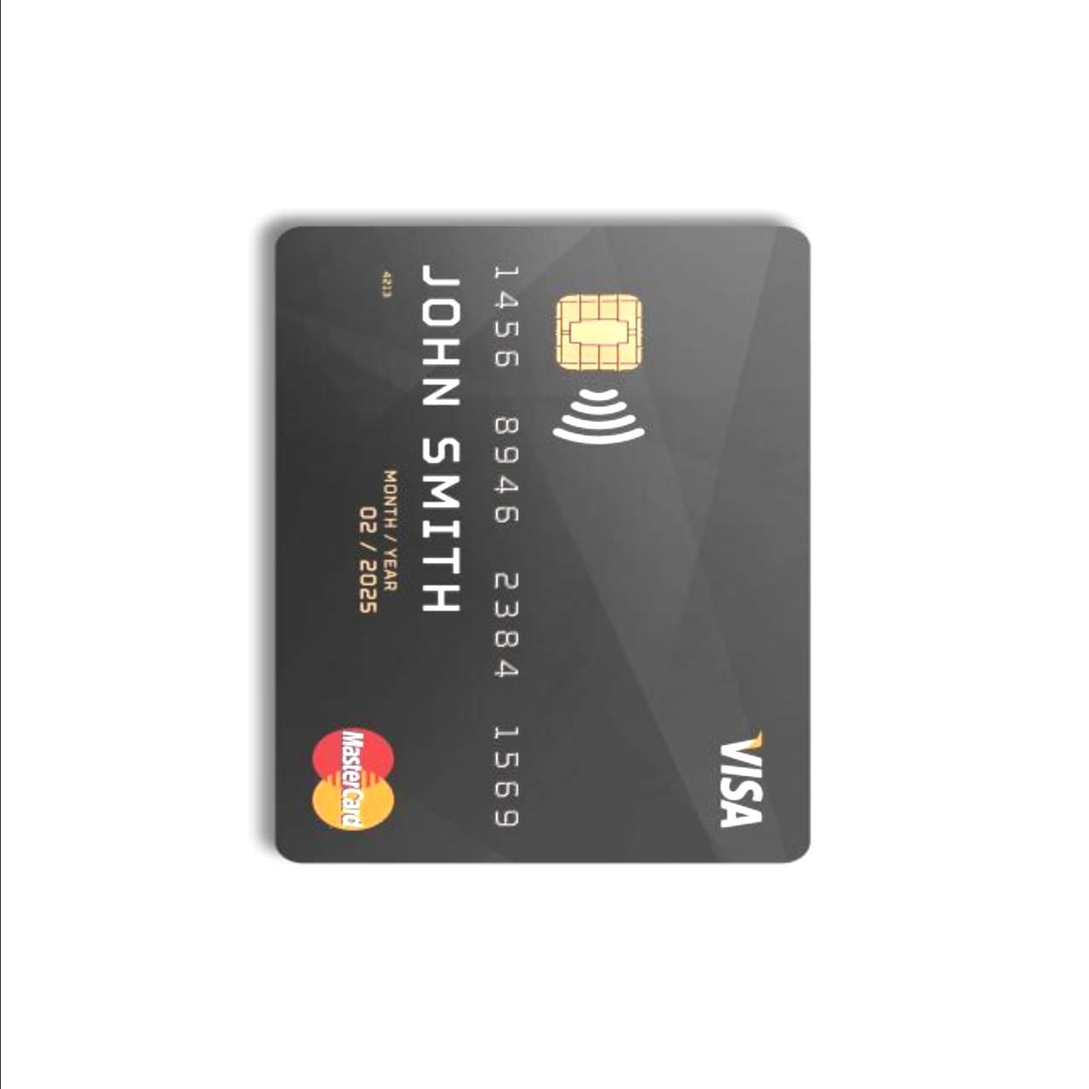credit_card: (265, 204, 824, 864)
